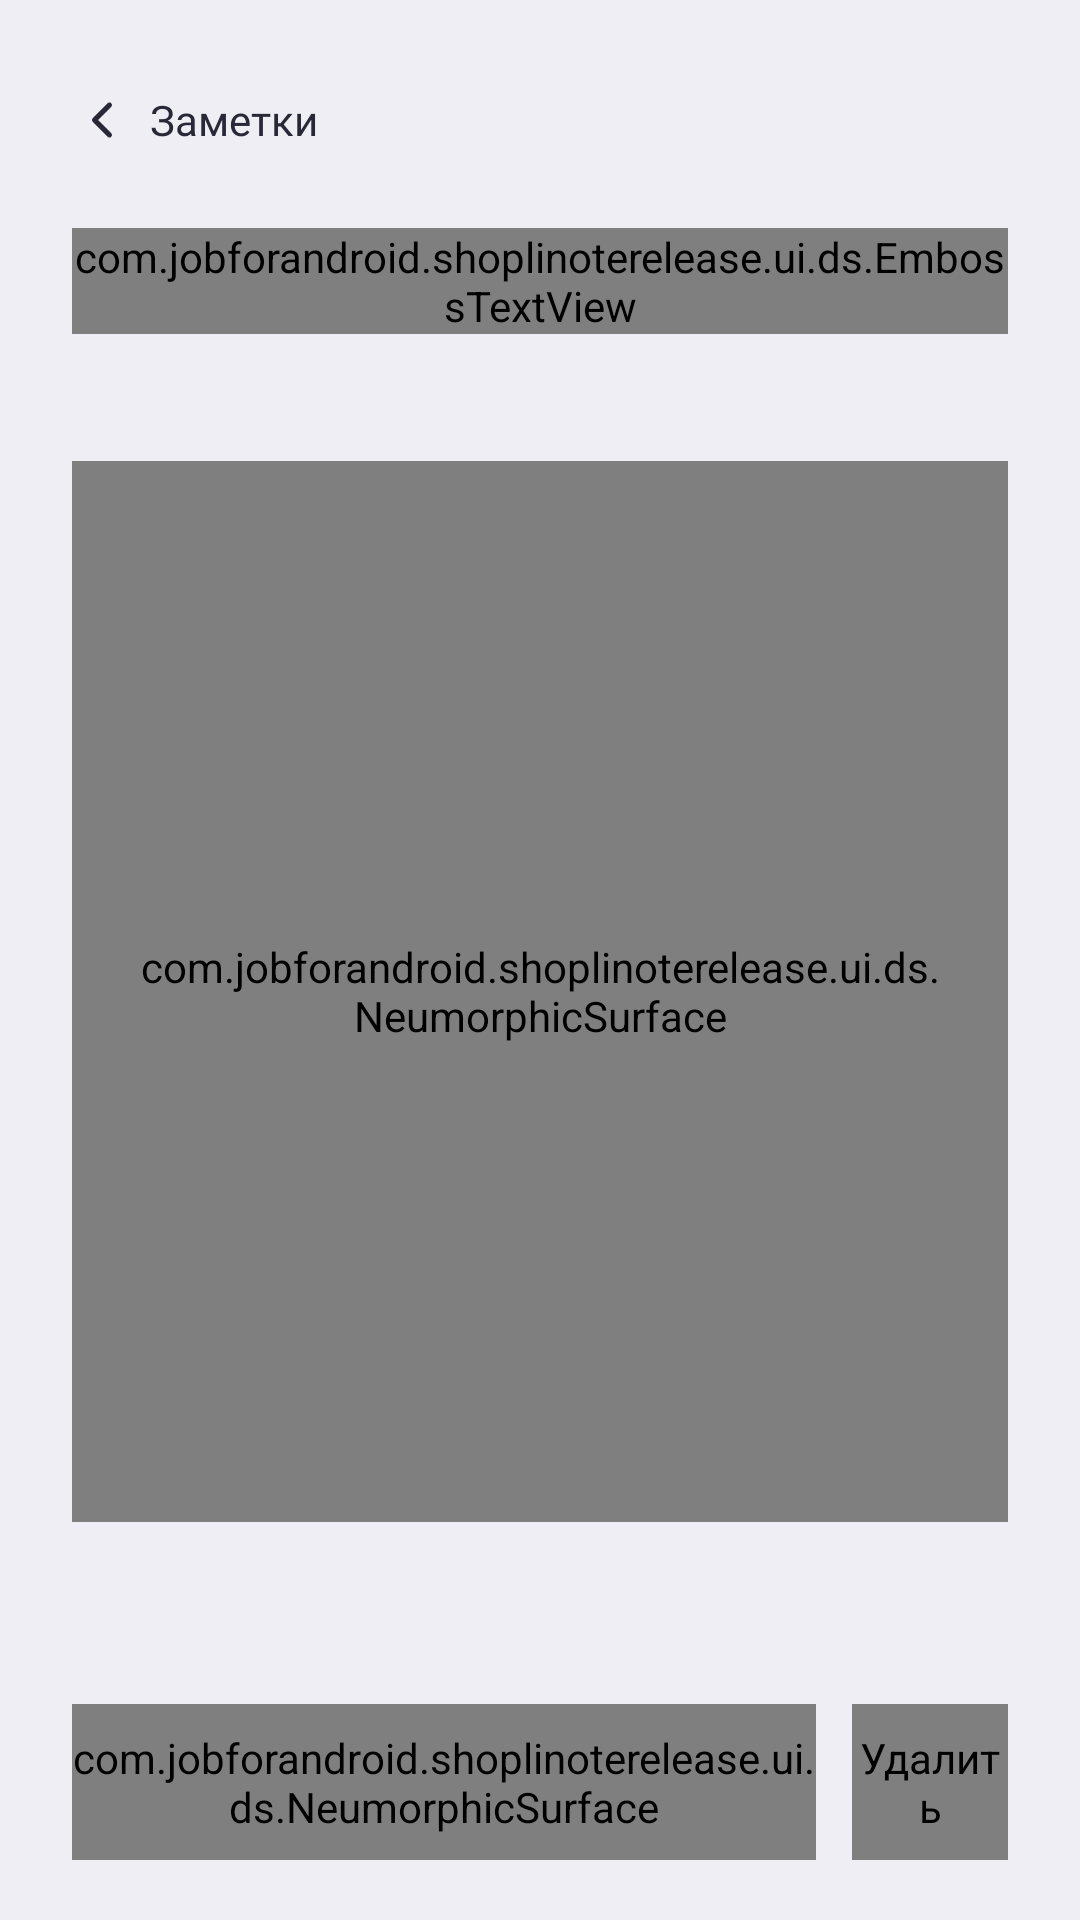

Where icons sit on this 1080w x 1920h app screen, as detection(x1, y1, x2, y2):
chevron left: detection(92, 102, 112, 138)
